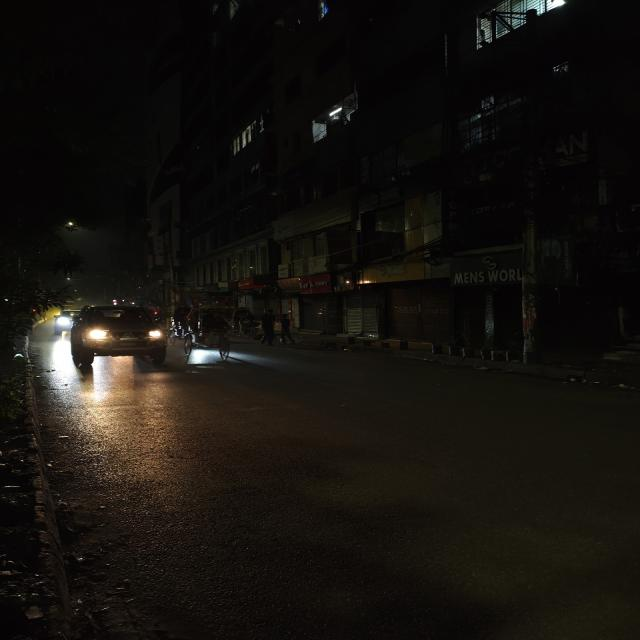car: (65, 303, 170, 375), (50, 308, 76, 336)
pedestrian: (258, 308, 282, 346), (276, 309, 298, 346)
rickshaw: (178, 306, 235, 370), (232, 306, 258, 344)
